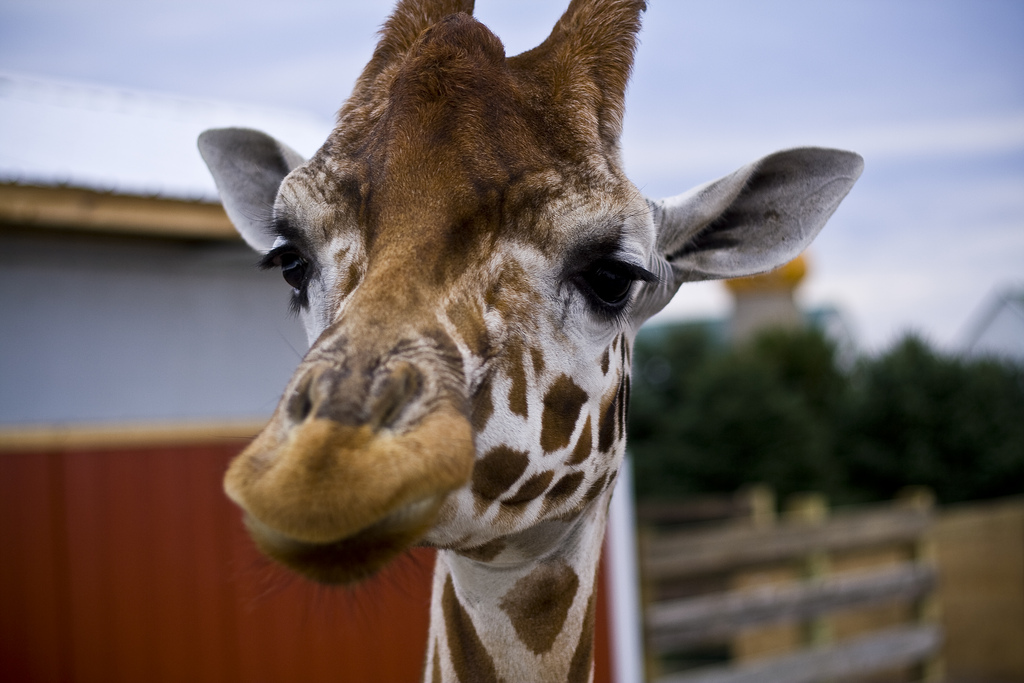giraffe: (201, 38, 773, 680)
